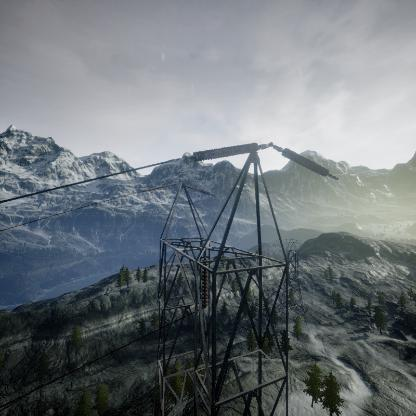insulator: (275, 145, 338, 182), (180, 138, 261, 165), (197, 257, 211, 310), (186, 184, 211, 195)
